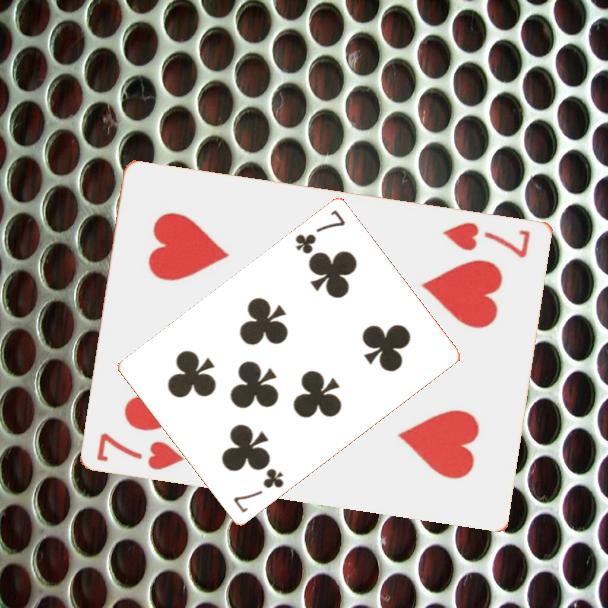c07: (230, 465, 287, 516), (291, 206, 348, 257)
h07: (94, 429, 188, 473), (439, 218, 534, 261)
